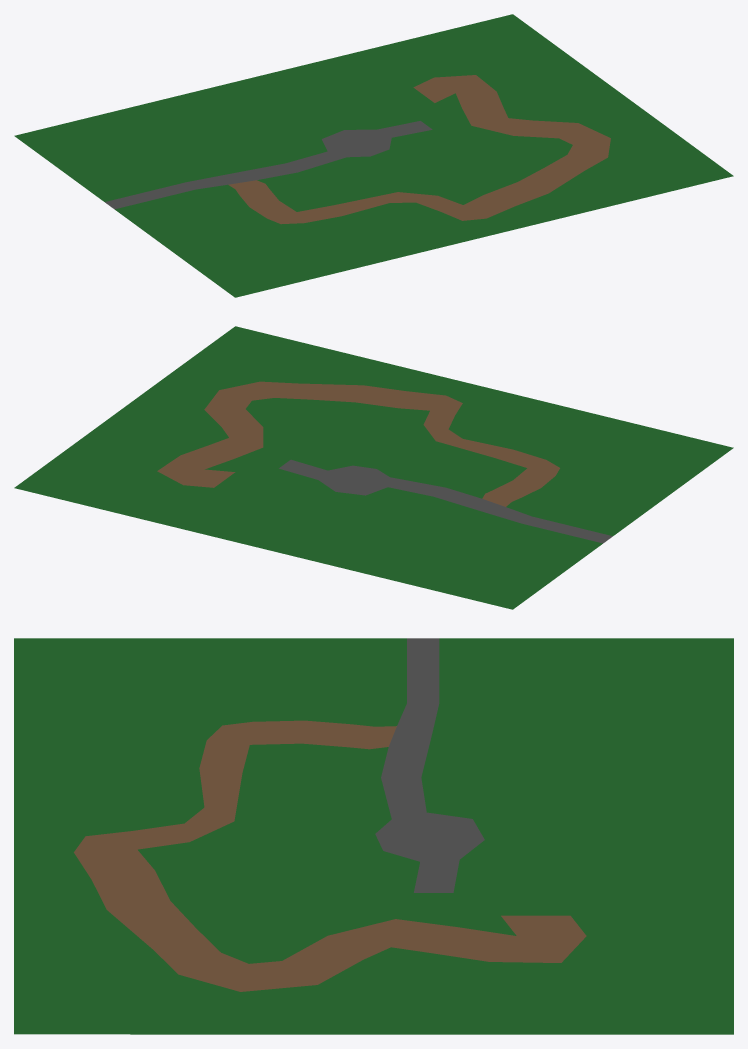
File: suelo2.fbx
The picture shows the model from 3 angles, top to bottom: view 1: azimuth 30°, elevation 25°; view 2: azimuth 150°, elevation 25°; view 3: azimuth 270°, elevation 25°; orthographic projection. The views are drawn at different scales.
Visible parts, largest first — view 1: Plane.006; view 2: Plane.006; view 3: Plane.006.
Part boxes in pixels (x1=…): Plane.006: x1=14, y1=14, x2=733, y2=297; Plane.006: x1=14, y1=326, x2=733, y2=609; Plane.006: x1=14, y1=638, x2=733, y2=1034.
Size of the model in its own units: 324 by 1.88e-05 by 249.
